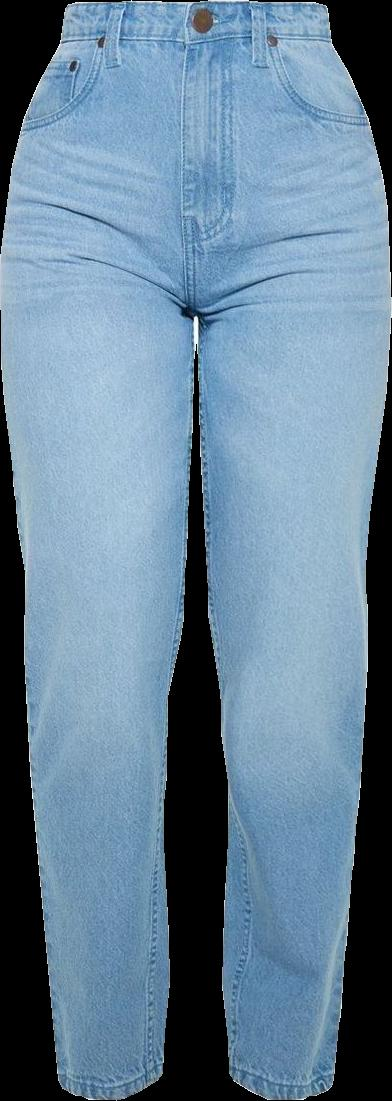Hemline: (53, 1066, 170, 1099), (226, 1069, 339, 1100)
Pantleg: (177, 0, 390, 1098), (0, 0, 203, 1097)
Waistline: (57, 30, 337, 52), (61, 0, 330, 18)
